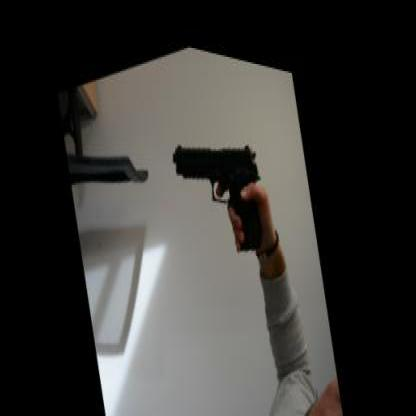pistol: (168, 89, 276, 277)
